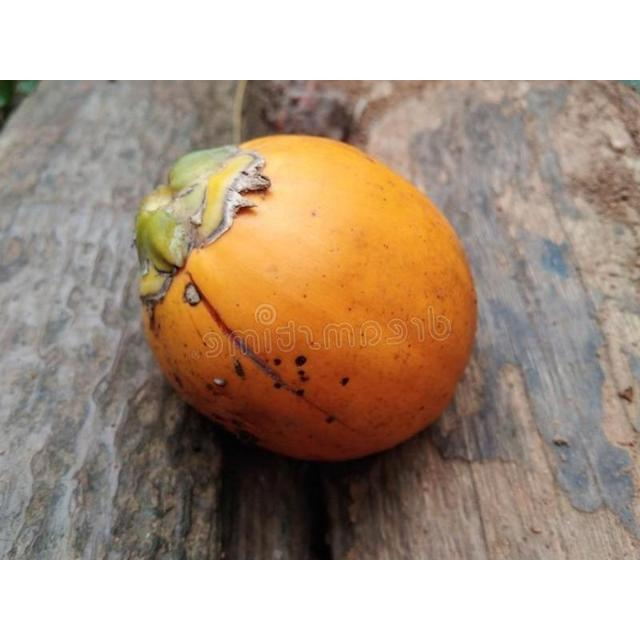good: (134, 134, 479, 465)
